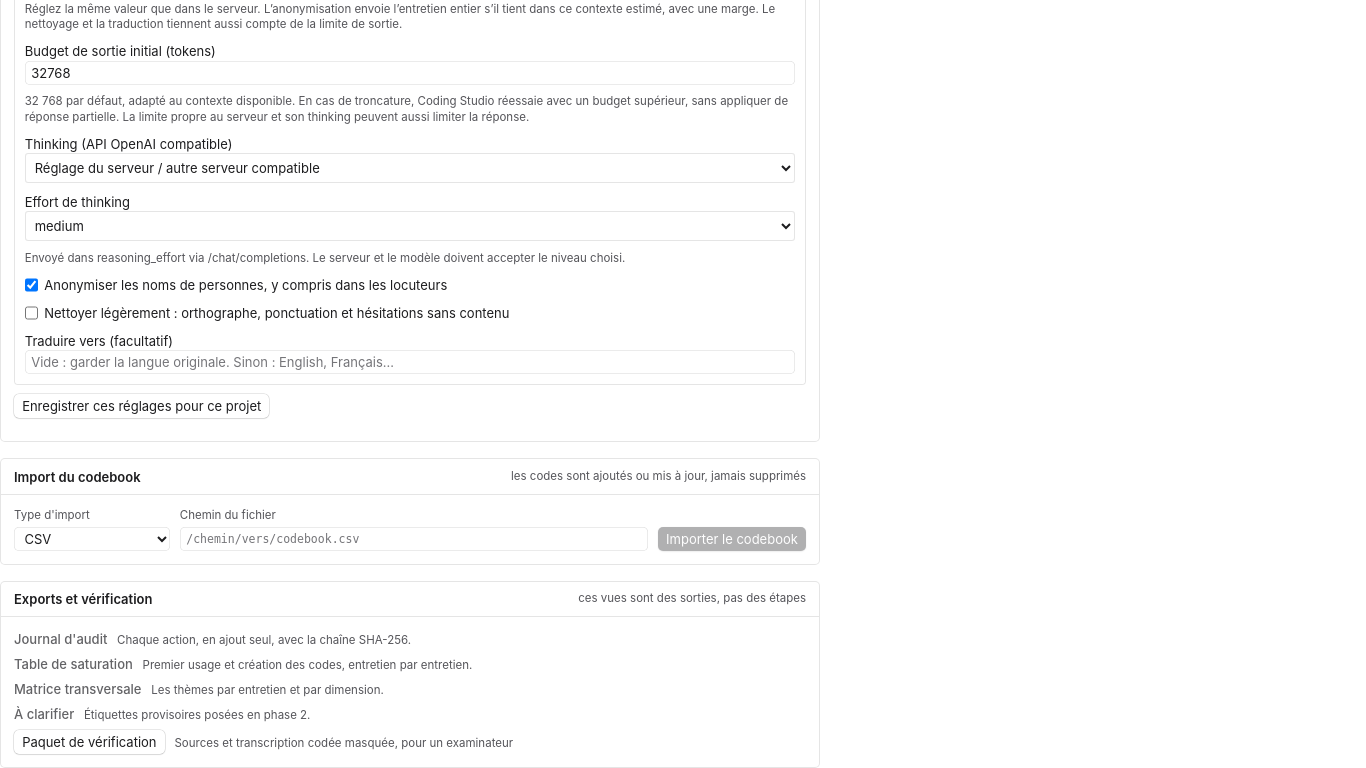
Test case: codebook import › shows the server's refusal
(page scrolled)
Step 1. Type "/data/bad.csv" into the field labelled "Chemin du fichier" → x=414, y=539, box x1=180 y1=527 x2=648 y2=551
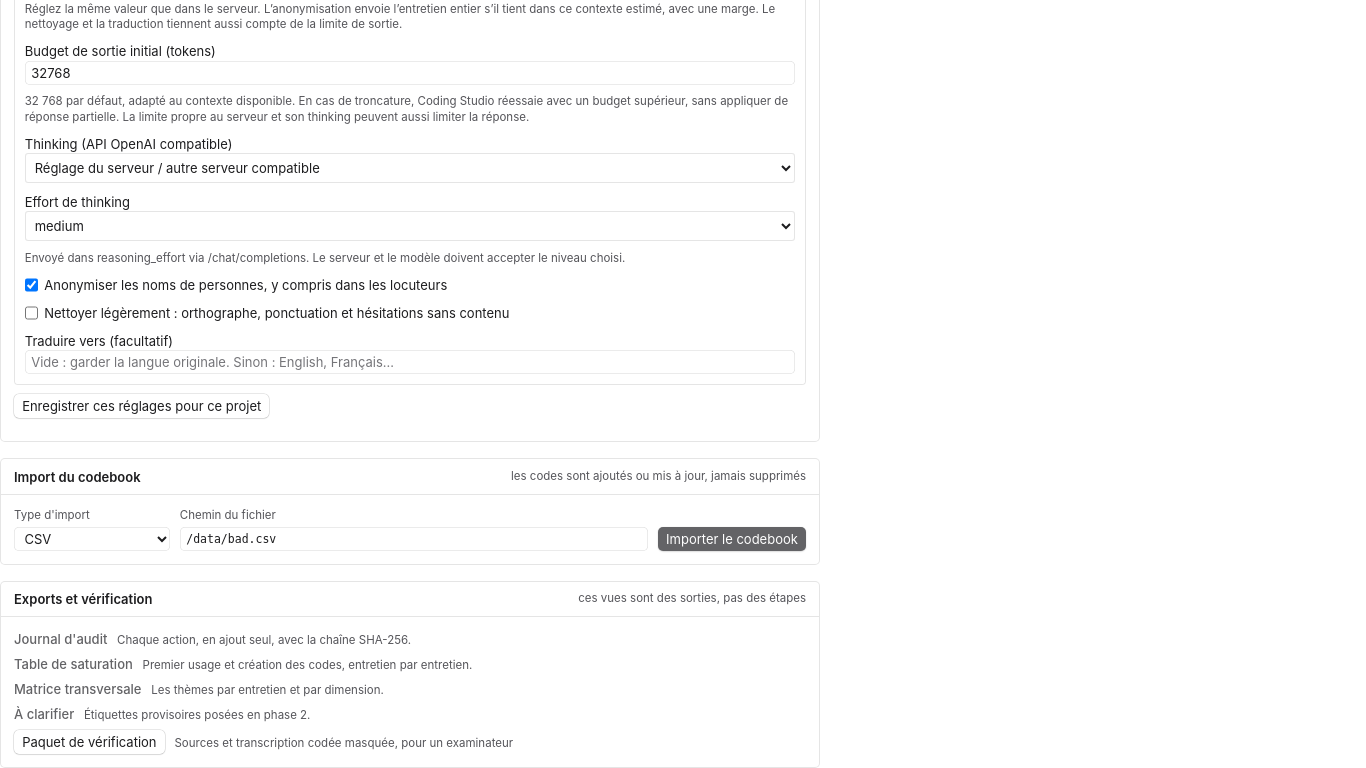
Step 2. Click the button "Importer le codebook" → x=732, y=539, box x1=658 y1=527 x2=806 y2=551
(page scrolled)
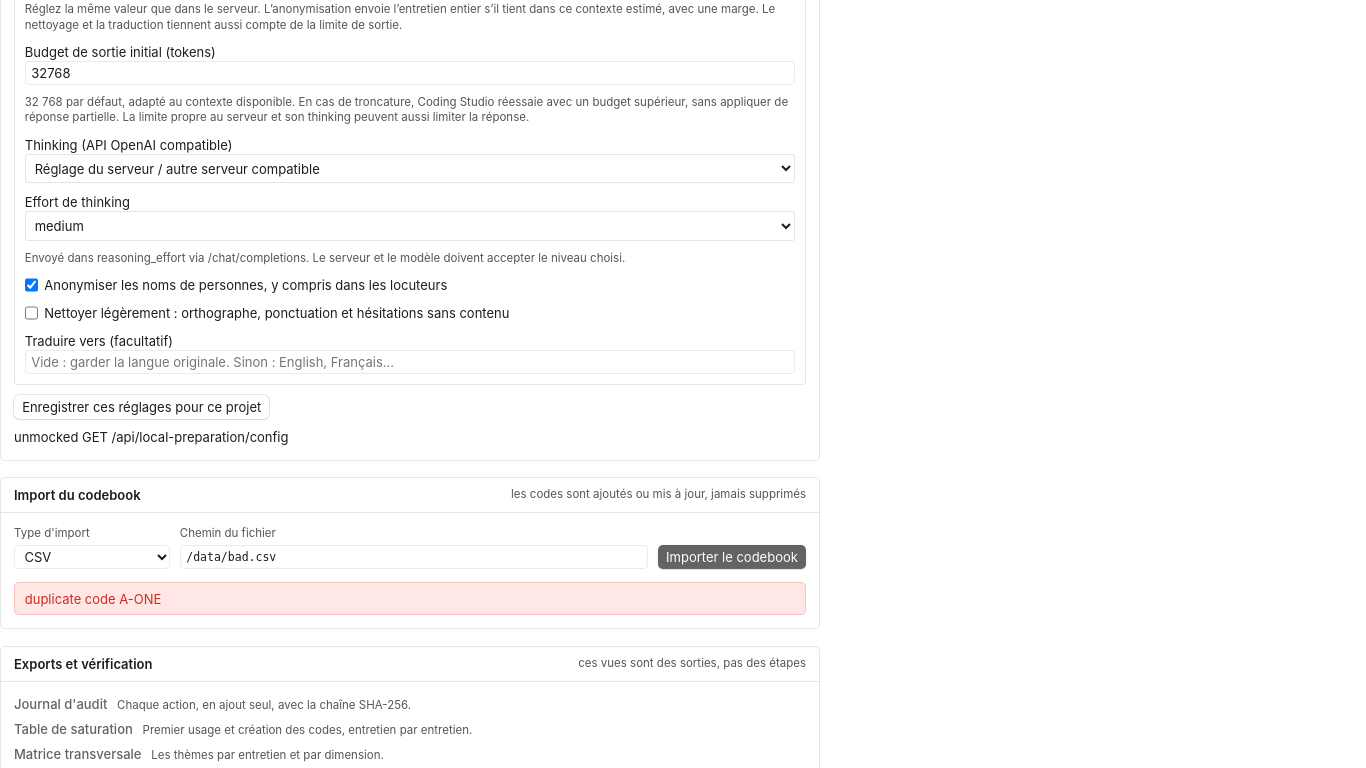
Result: the message "duplicate code A-ONE" is shown at x1=14 y1=582 x2=806 y2=615
